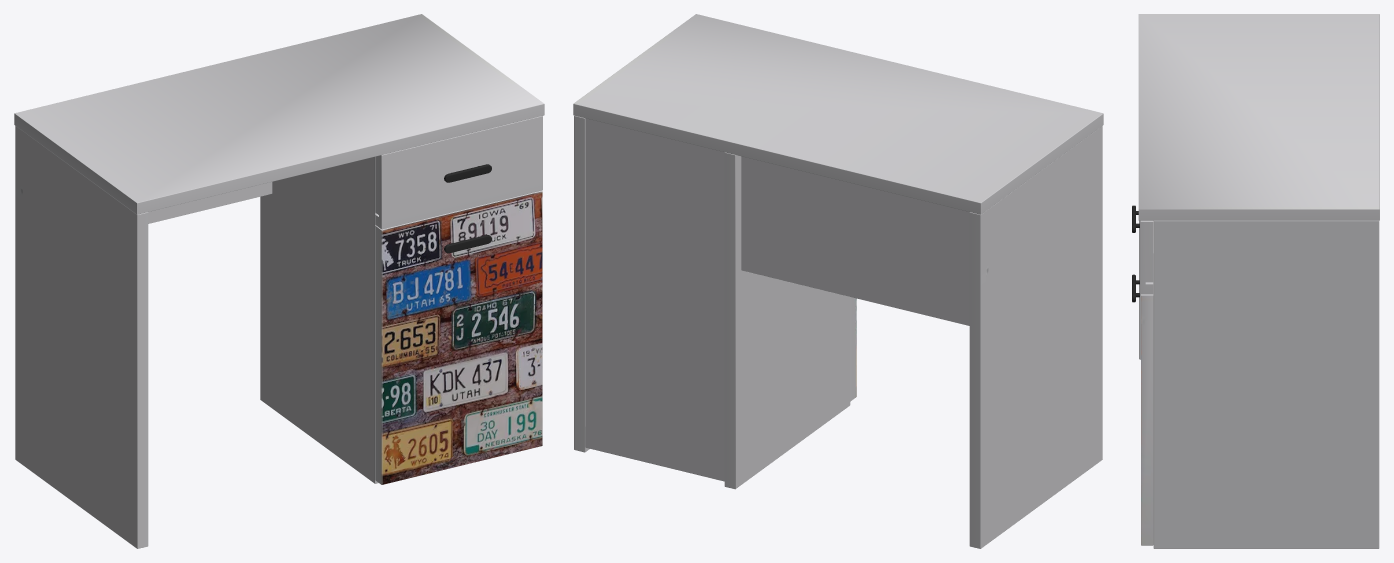
The model's file is B07GFQ4D3J.glb.
3 renders of one model, left to right at view 1: azimuth 30°, elevation 25°; view 2: azimuth 150°, elevation 25°; view 3: azimuth 270°, elevation 25°, orthographic.
Visible parts, largest first — view 1: RootNode; view 2: RootNode; view 3: RootNode.
Part boxes in pixels (left/top/right/bottom): RootNode: left=14, top=14, right=544, bottom=548; RootNode: left=573, top=14, right=1103, bottom=548; RootNode: left=1132, top=14, right=1379, bottom=548.
Size of the model in its own units: 0.8984 by 0.7296 by 0.4815.
Materials: 1 (1 with a texture image).
